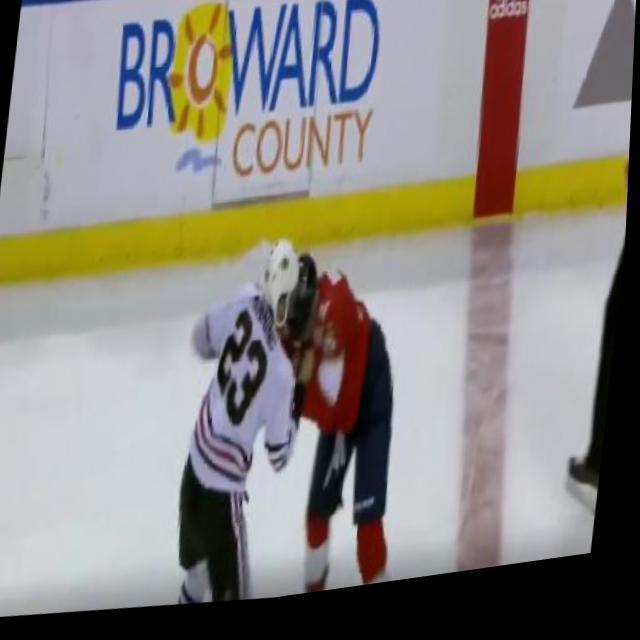fight: (159, 213, 428, 620)
